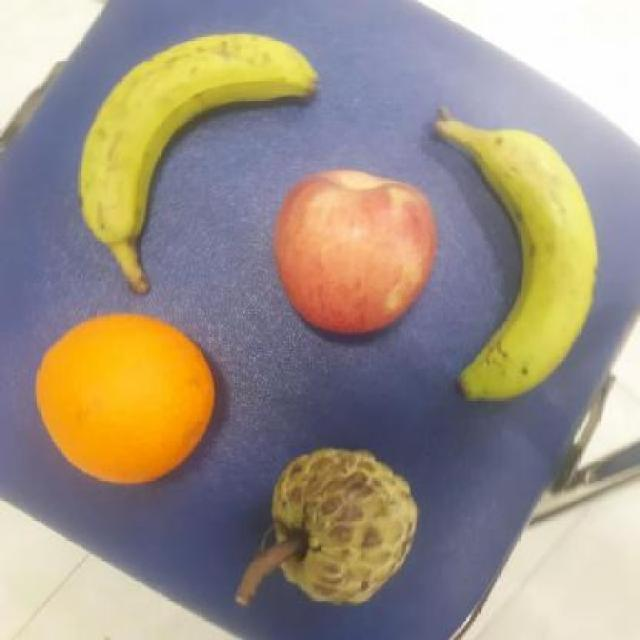apple: (269, 165, 443, 339)
banana: (74, 31, 317, 298), (436, 108, 602, 400)
oren: (34, 311, 217, 486)
sugar apple: (272, 445, 419, 610)
